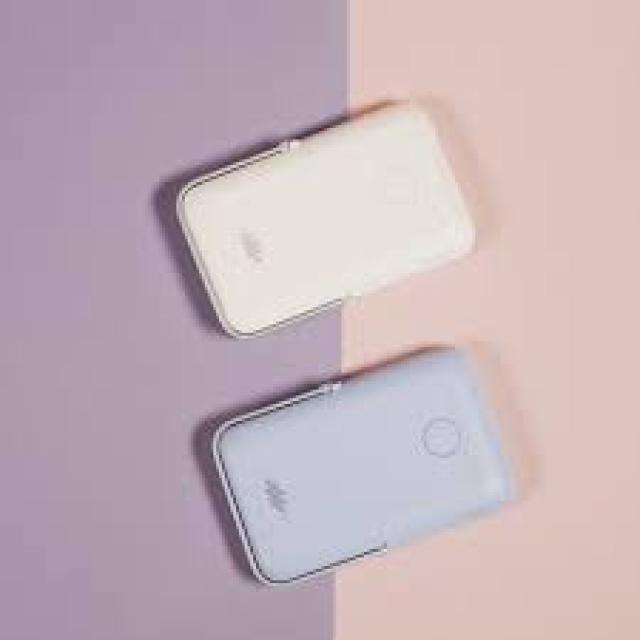power_bank: (170, 93, 480, 340), (205, 343, 514, 590)
